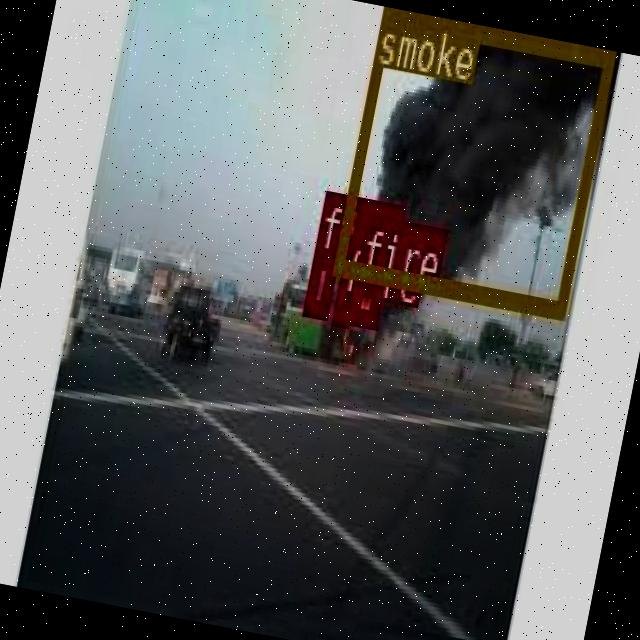fire: (300, 246, 338, 318), (346, 271, 383, 324), (330, 291, 351, 324)
smoke: (330, 6, 612, 317)
